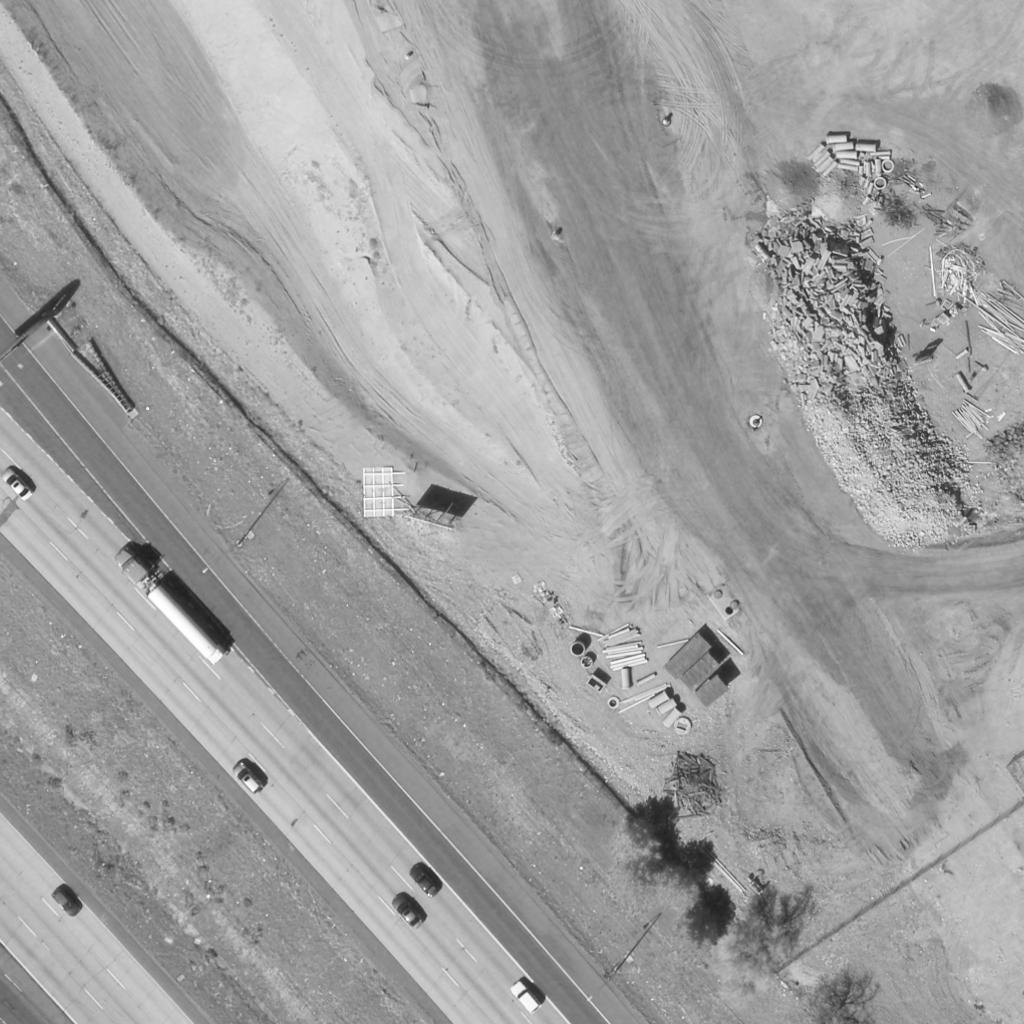vehicle: (113, 547, 229, 667), (0, 466, 36, 504), (407, 866, 443, 900), (231, 761, 265, 795), (49, 886, 83, 920), (392, 893, 424, 927), (509, 982, 541, 1016)
